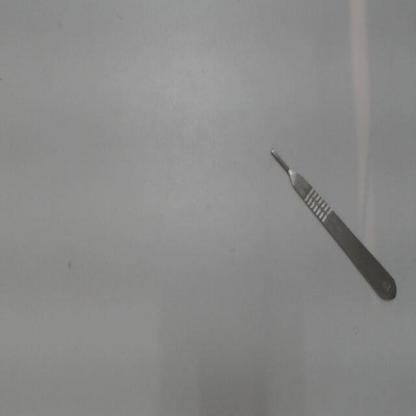No.3 BP Handle: (258, 134, 406, 318)
